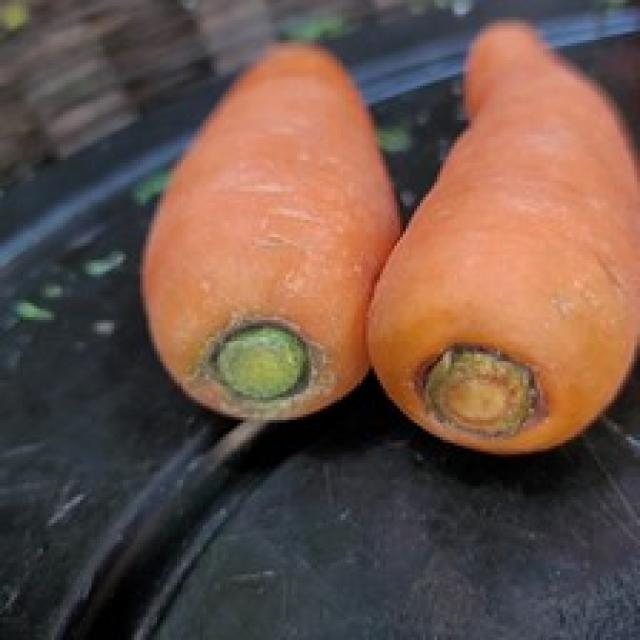Fresh_Carrot: (148, 54, 389, 438), (422, 29, 640, 441)
